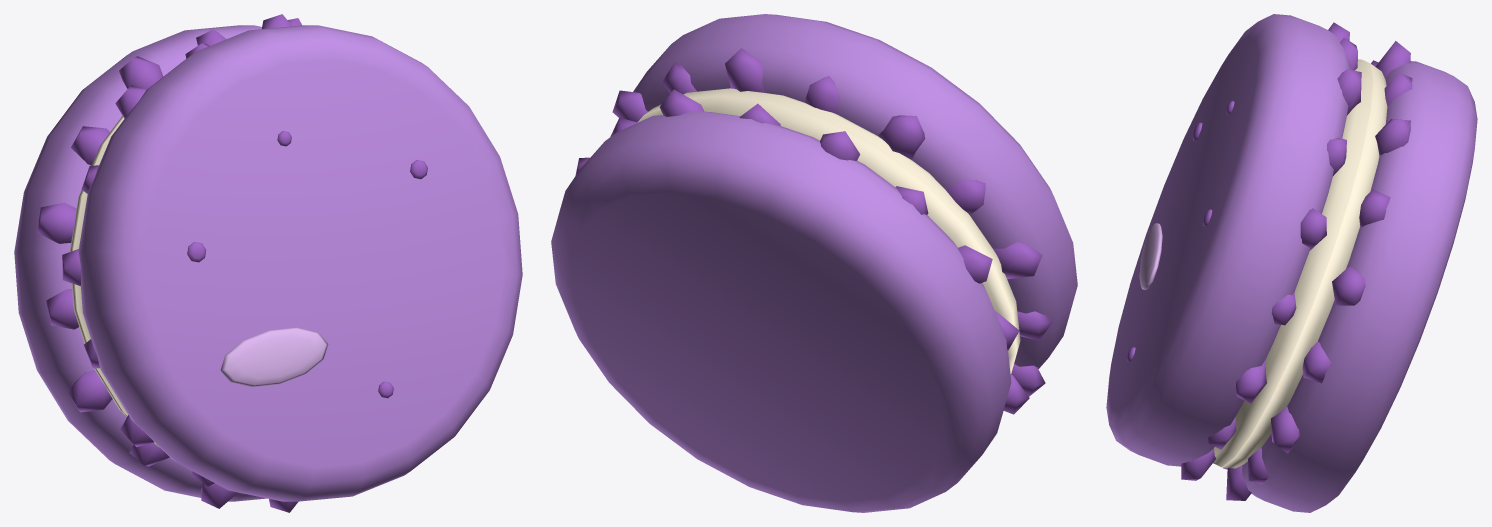
The model's file is macaron.glb.
3 views of the same model, side by side, from view 1: azimuth 30°, elevation 25°; view 2: azimuth 150°, elevation 25°; view 3: azimuth 270°, elevation 25° (orthographic). The views are drawn at different scales.
Parts seen in each view (by area): view 1: macaron; view 2: macaron; view 3: macaron.
Boxes of the visible parts, left/top/right/bottom form: macaron: left=14, top=14, right=522, bottom=512; macaron: left=551, top=14, right=1077, bottom=512; macaron: left=1106, top=14, right=1477, bottom=512.
Bounding box in the file's own units: 0.9598 × 1 × 0.7415.
